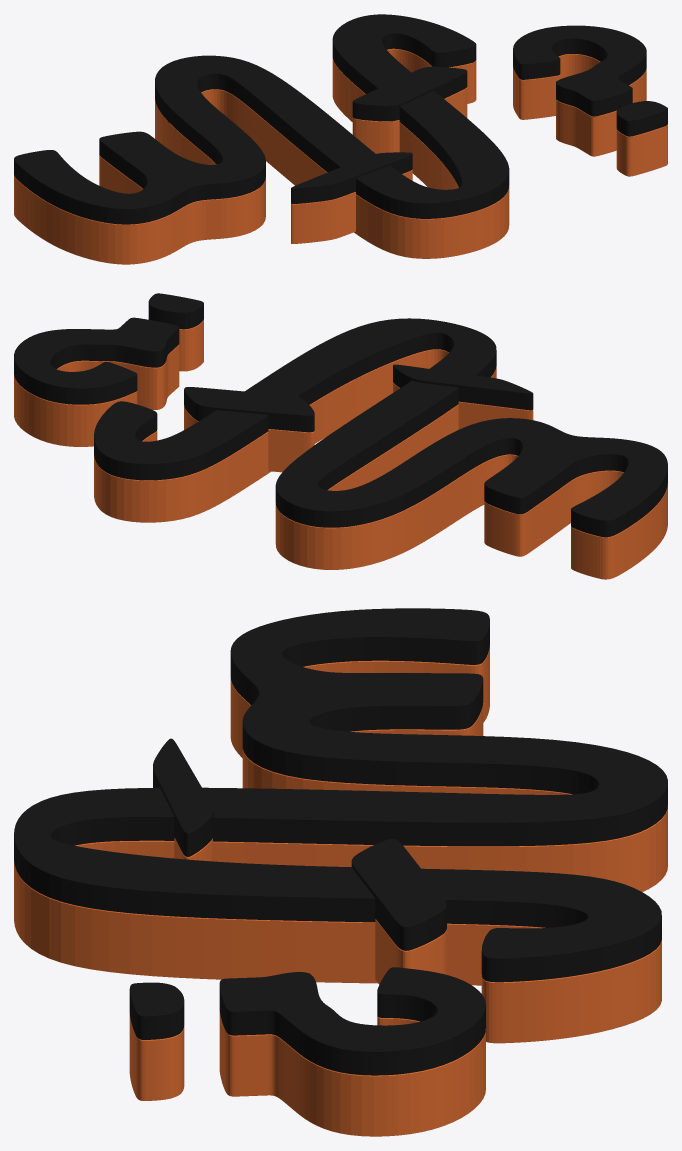
The model's file is wtf.fbx.
The picture shows the model from 3 angles, top to bottom: view 1: azimuth 30°, elevation 25°; view 2: azimuth 150°, elevation 25°; view 3: azimuth 270°, elevation 25°; orthographic projection. The views are drawn at different scales.
Parts seen in each view (by area): view 1: Plane, Plane.001; view 2: Plane, Plane.001; view 3: Plane, Plane.001.
Part boxes in pixels (left/top/right/bottom): Plane: left=14, top=14, right=667, bottom=224; Plane.001: left=14, top=48, right=667, bottom=264; Plane: left=14, top=293, right=667, bottom=537; Plane.001: left=14, top=320, right=667, bottom=579; Plane: left=14, top=608, right=667, bottom=1075; Plane.001: left=14, top=646, right=667, bottom=1136.
Size of the model in its own units: 265 by 24.89 by 166.
